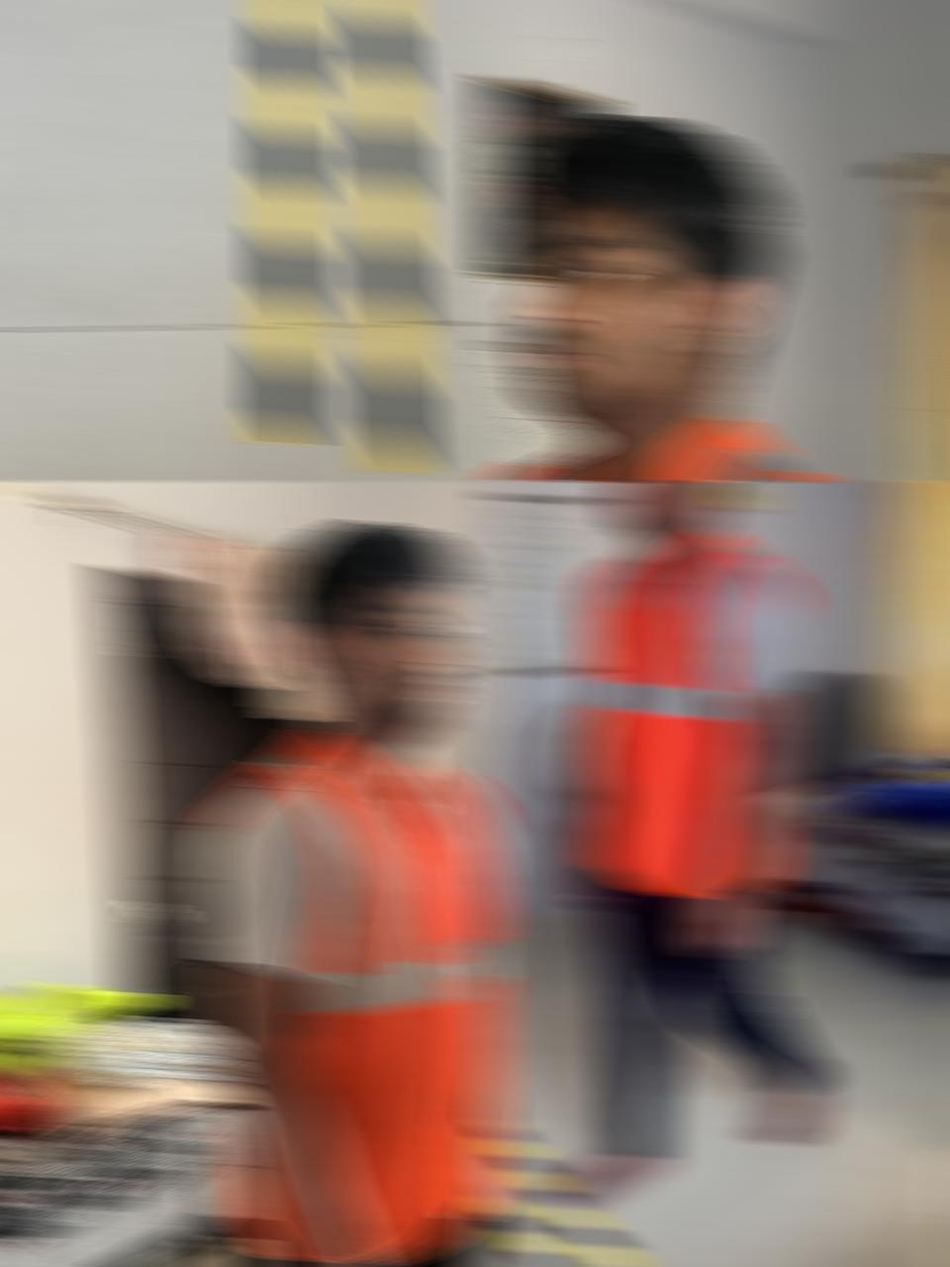BorderLine: (250, 0, 428, 473), (483, 1085, 720, 1267)
No_Helmet: (515, 111, 784, 432), (270, 518, 466, 741), (601, 481, 735, 542)
Person: (197, 518, 505, 1267), (546, 481, 827, 1205), (483, 112, 920, 482)
Vest: (197, 727, 505, 1265), (582, 524, 804, 901)
